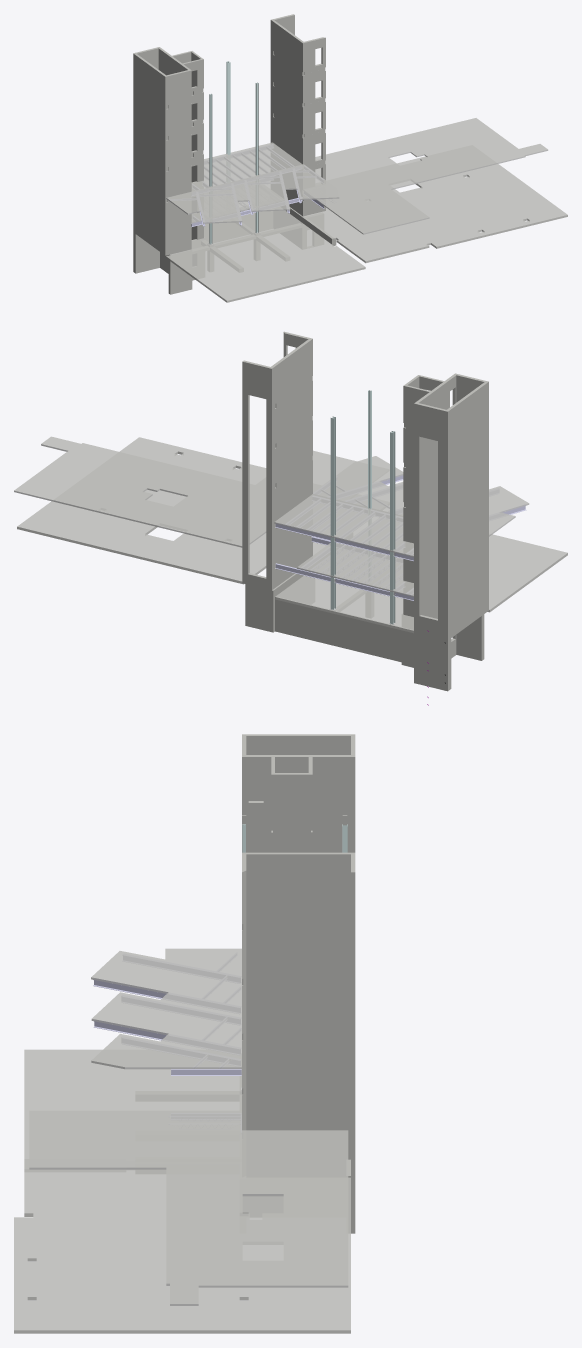
Rendered from ISSUE-006-context.glb.
The picture shows the model from 3 angles, top to bottom: view 1: azimuth 30°, elevation 25°; view 2: azimuth 150°, elevation 25°; view 3: azimuth 270°, elevation 25°; orthographic projection. The views are drawn at different scales.
Parts seen in each view (by area): view 1: 4006 (×2), 3844, 3831, 3051, 3792, 3054, 3048, 3060, 3871, 5711, 3196, 3050 (+8 smaller); view 2: 4006 (×2), 3844, 3051, 3054, 3831, 3050, 3934, 3053, 3871, 3792, 3049, 3420 (+9 smaller); view 3: 4006 (×2), 3844, 3054, 3792 (×2), 3831, 3049, 3051, 3030, 3047, 3053, 3060.
Part boxes in pixels (<box>): 4006 (×2): <box>315,118,548,234</box>; 3844: <box>304,156,567,263</box>; 3831: <box>166,210,365,302</box>; 3051: <box>134,53,167,255</box>; 3792: <box>166,164,338,222</box>; 3054: <box>272,20,303,216</box>; 3048: <box>166,70,189,254</box>; 3060: <box>303,37,325,216</box>; 3871: <box>191,142,302,191</box>; 5711: <box>182,59,203,239</box>; 3196: <box>133,232,159,273</box>; 3050: <box>133,47,158,232</box>; 4006 (×2): <box>14,436,356,547</box>; 3844: <box>17,437,326,584</box>; 3051: <box>447,381,488,638</box>; 3054: <box>271,338,312,588</box>; 3831: <box>275,534,567,633</box>; 3050: <box>417,403,449,640</box>; 3934: <box>275,599,413,665</box>; 3053: <box>242,360,273,590</box>; 3871: <box>275,494,413,555</box>; 3792: <box>313,456,528,534</box>; 3049: <box>414,392,432,683</box>; 3420: <box>297,542,413,595</box>; 4006 (×2): <box>29,1110,348,1305</box>; 3844: <box>14,1159,350,1333</box>; 3054: <box>243,852,350,1159</box>; 3792 (×2): <box>91,948,241,1069</box>; 3831: <box>24,1049,241,1158</box>; 3049: <box>312,755,355,852</box>; 3051: <box>242,734,350,852</box>; 3030: <box>271,773,308,852</box>; 3047: <box>242,755,271,852</box>; 3053: <box>351,852,355,1177</box>; 3060: <box>242,852,246,1130</box>.
Bounding box in the file's own units: 57.67 × 28.58 × 37.24.
